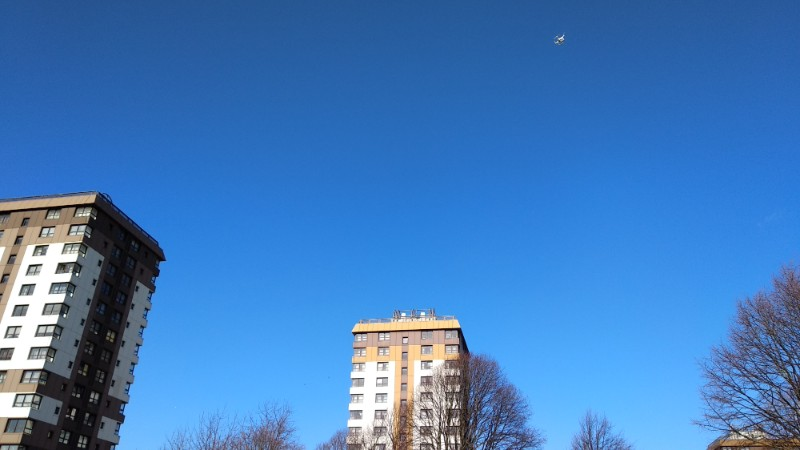drone: (552, 32, 568, 47)
